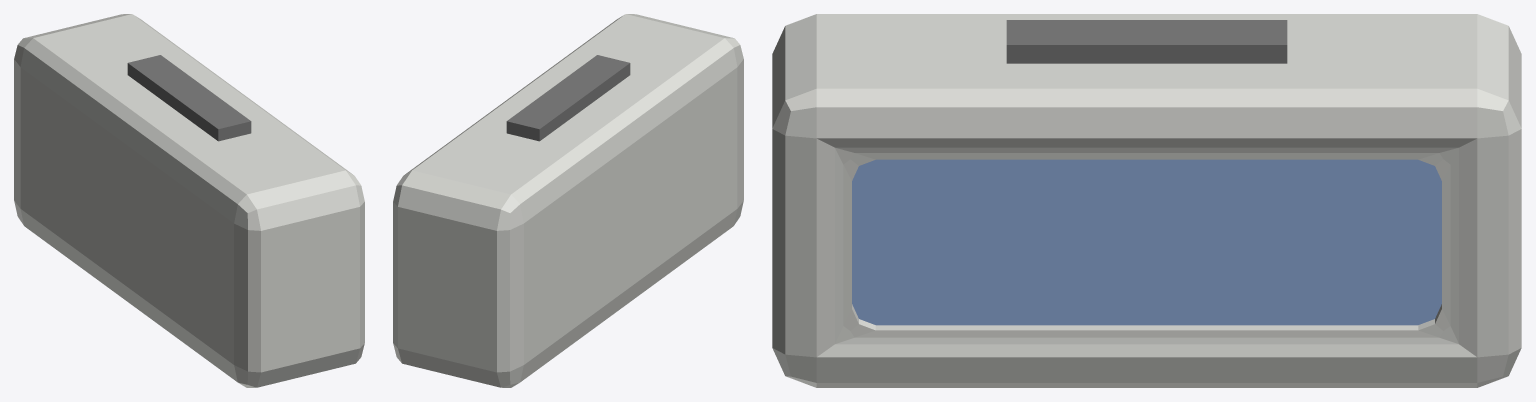
The model's file is Reloj.fbx.
The picture shows the model from 3 angles, left to right: view 1: azimuth 30°, elevation 25°; view 2: azimuth 150°, elevation 25°; view 3: azimuth 270°, elevation 25°; orthographic projection. The views are drawn at different scales.
Parts seen in each view (by area): view 1: Cube; view 2: Cube; view 3: Cube.
Boxes of the visible parts, x1,y1,x2,y2 form: Cube: (14,14,364,387); Cube: (393,14,743,387); Cube: (772,14,1521,387).
Bounding box in the file's own units: 102 × 162 × 346.
